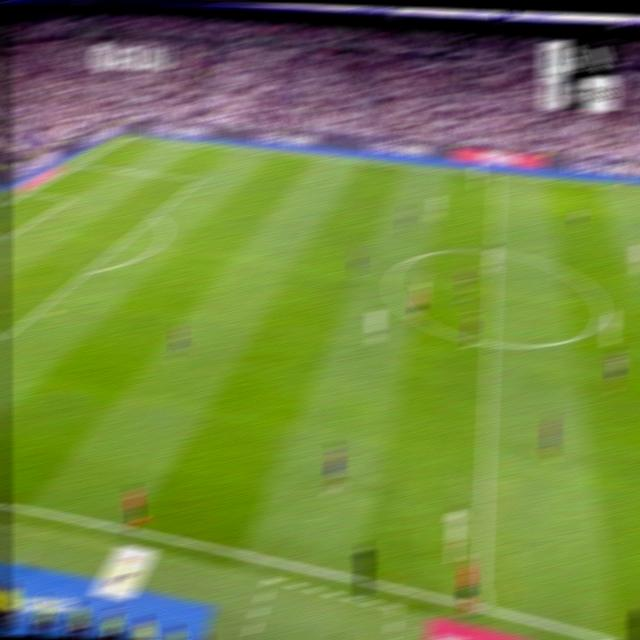bigarea_top_inner: (193, 172, 205, 184)
bigarea_top_outter: (74, 158, 87, 169)
bottom_arc_area_intersection: (80, 264, 94, 278)
midline_bottom_intersection: (471, 591, 489, 616)
midline_top_intersection: (491, 170, 503, 181)
smallarea_top_inner: (64, 192, 75, 202)
top_arc_area_intersection: (150, 208, 162, 220)
